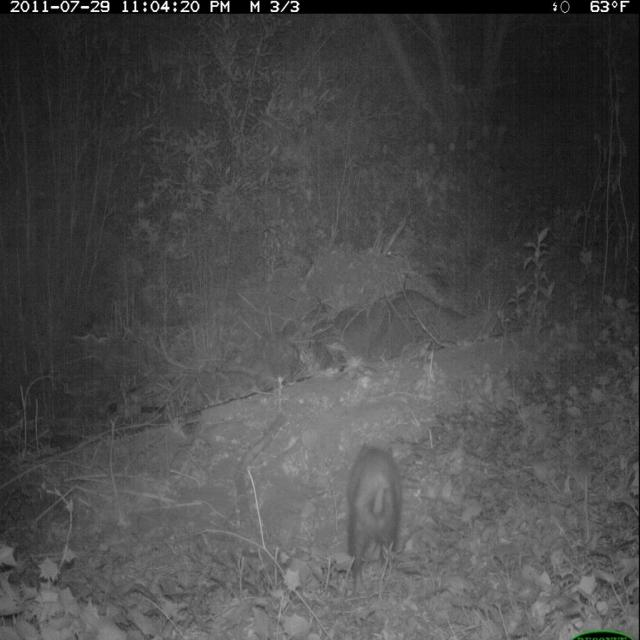opossum: (344, 436, 404, 581)
